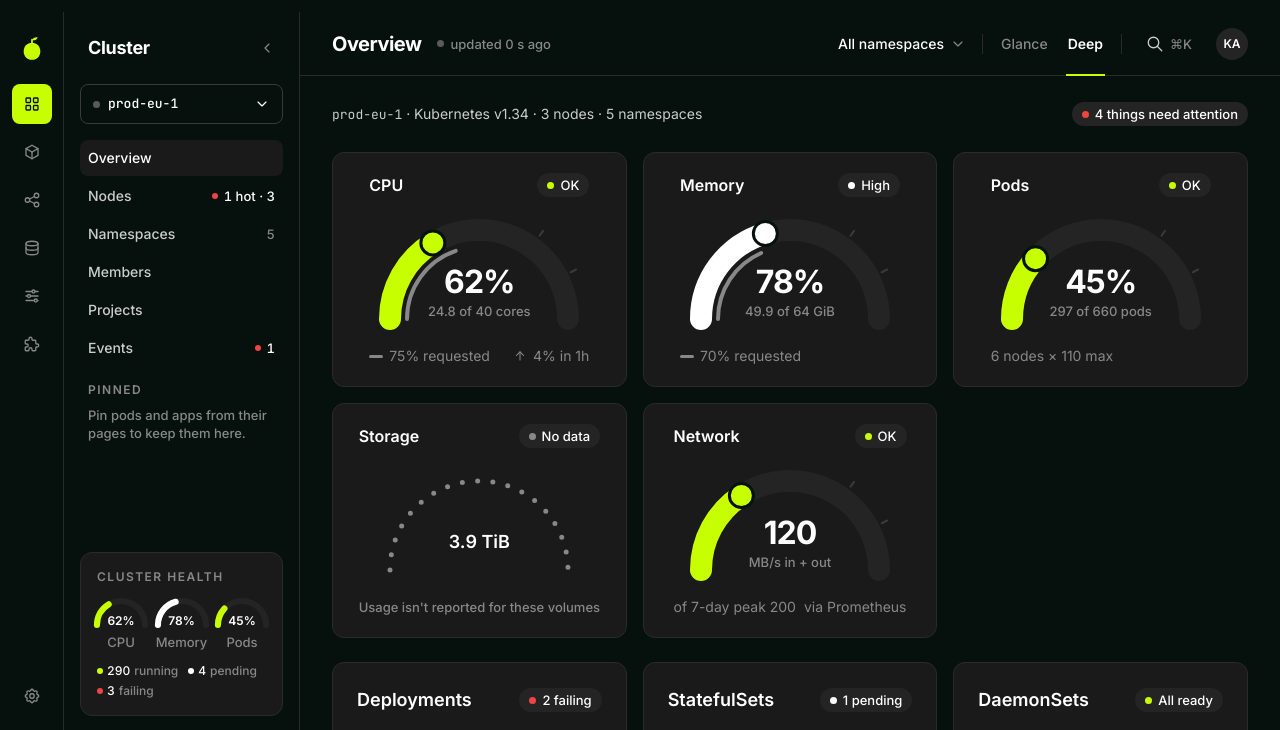
Scenario: Namespace picker › searches, moves with the keyboard and picks with Enter
The width and height of the screenshot is (1280, 730).
Click the button with aria-label "Namespace:" at (902, 44), box left=838, top=28, right=966, bottom=60
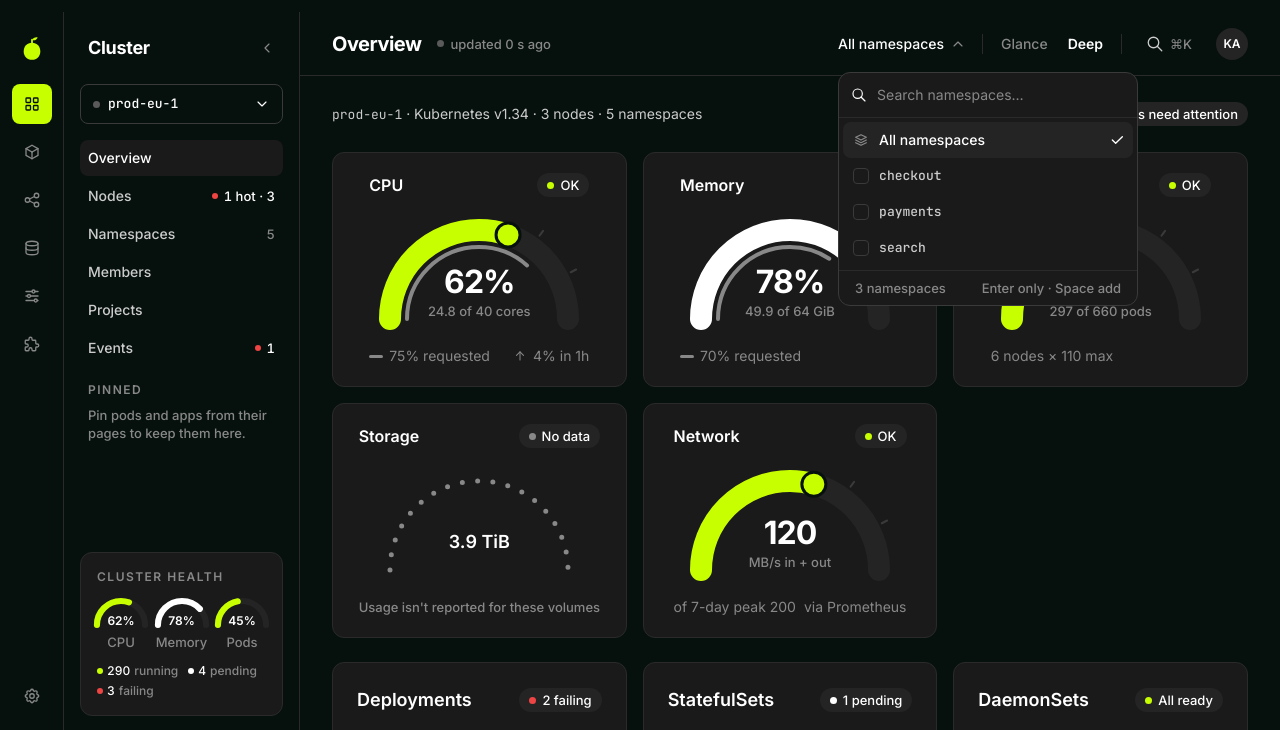
Type "ch" into the dropdown labelled "Search namespaces" at (1000, 94), box left=875, top=72, right=1125, bottom=116
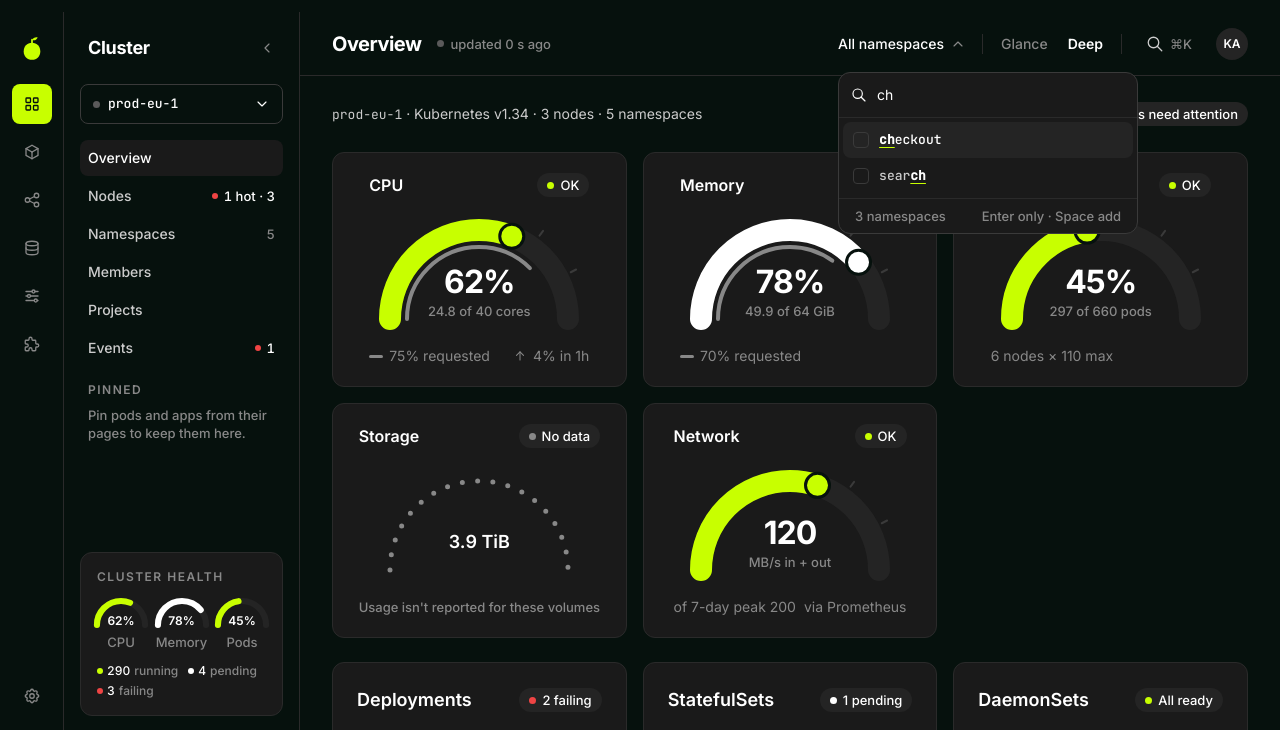
Now the options read "checkout", "search", in this order, box left=843, top=122, right=1133, bottom=158; left=853, top=166, right=926, bottom=184
Press Arrowdown Enter
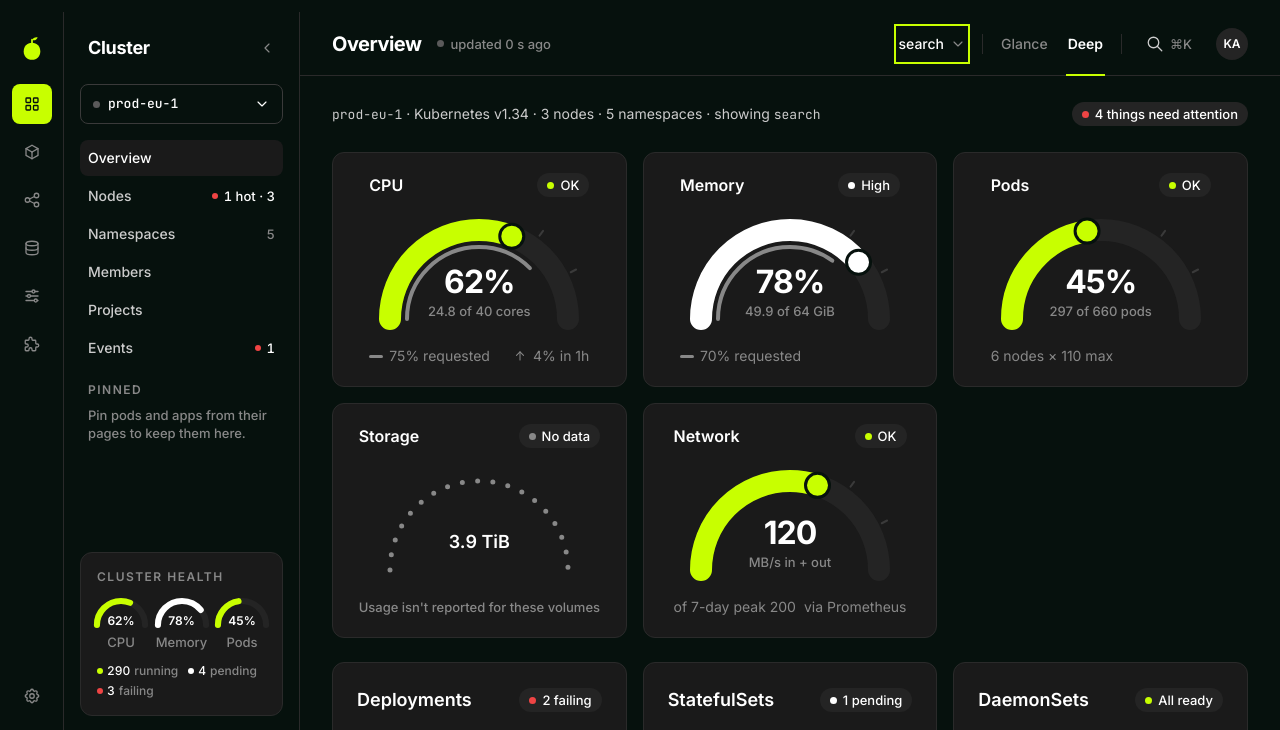
Now the list "checkout search" is gone
